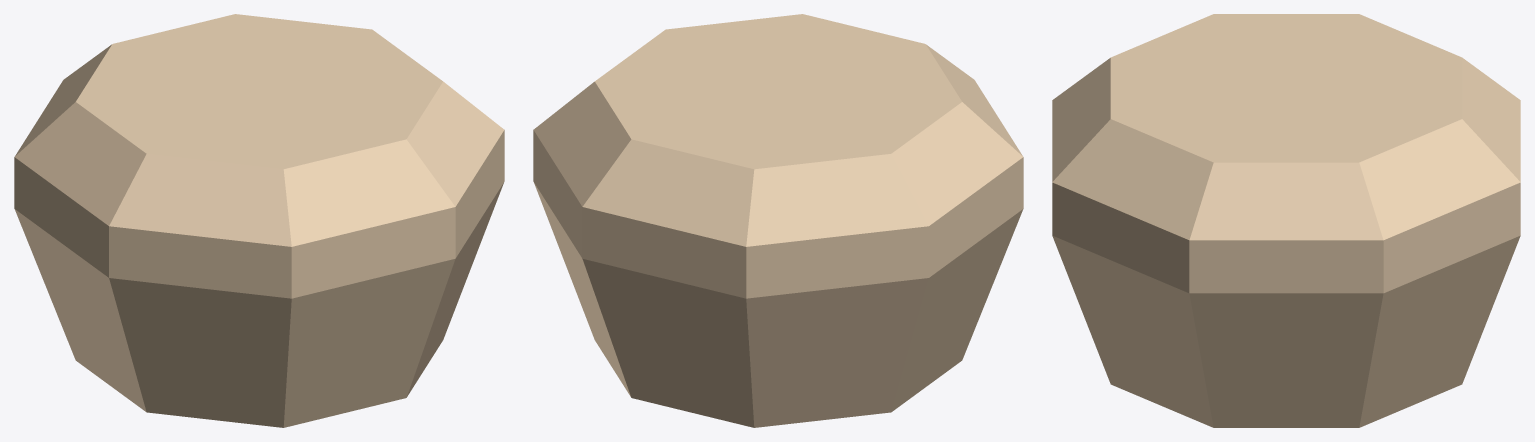
The model's file is temple_Wall_End_Top.glb.
The picture shows the model from 3 angles, left to right: view 1: azimuth 30°, elevation 25°; view 2: azimuth 150°, elevation 25°; view 3: azimuth 270°, elevation 25°; orthographic projection. The views are drawn at different scales.
Visible parts, largest first — view 1: object1; view 2: object1; view 3: object1.
Boxes of the visible parts, x1=… form: object1: x1=14, y1=14, x2=504, y2=427; object1: x1=533, y1=14, x2=1023, y2=427; object1: x1=1052, y1=14, x2=1520, y2=427.
Size of the model in its own units: 0.4 by 0.25 by 0.4.
